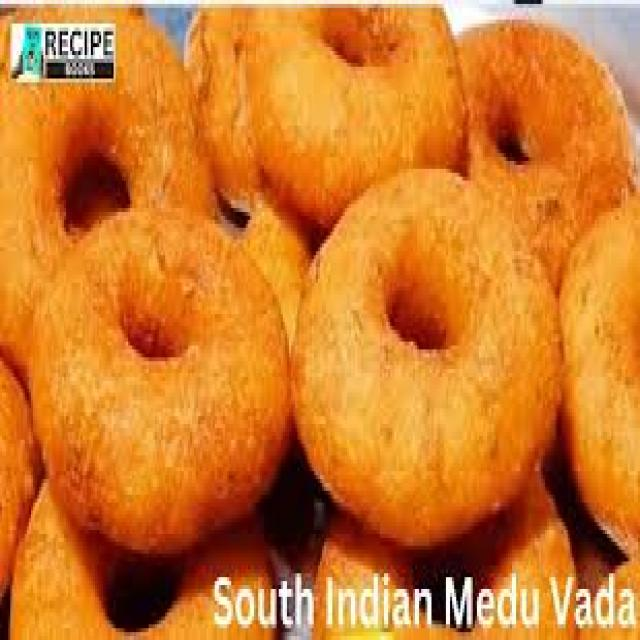MEDU VADA: (289, 167, 563, 546), (33, 207, 289, 561), (0, 18, 210, 387), (244, 3, 461, 222), (456, 16, 628, 288), (557, 194, 638, 561)
